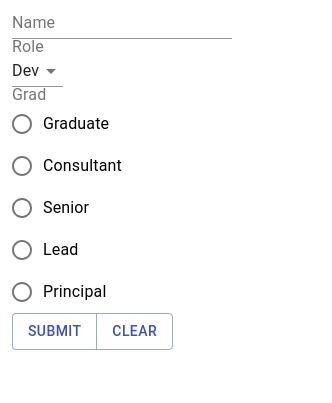
it: The FormDojo, given the application has started › when user submit form and input is empty › then should show error message
The image size is (332, 403).
Click the button "Submit": [55, 331] box [12,313,97,350]
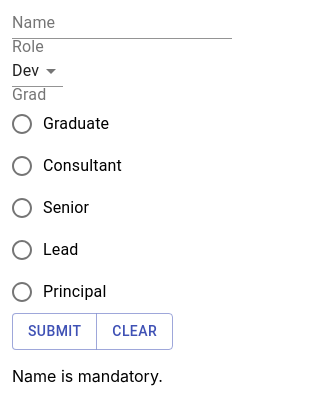
expect the element with test id "form-message" reads "Name is mandatory.": met, box [12,366,163,386]
